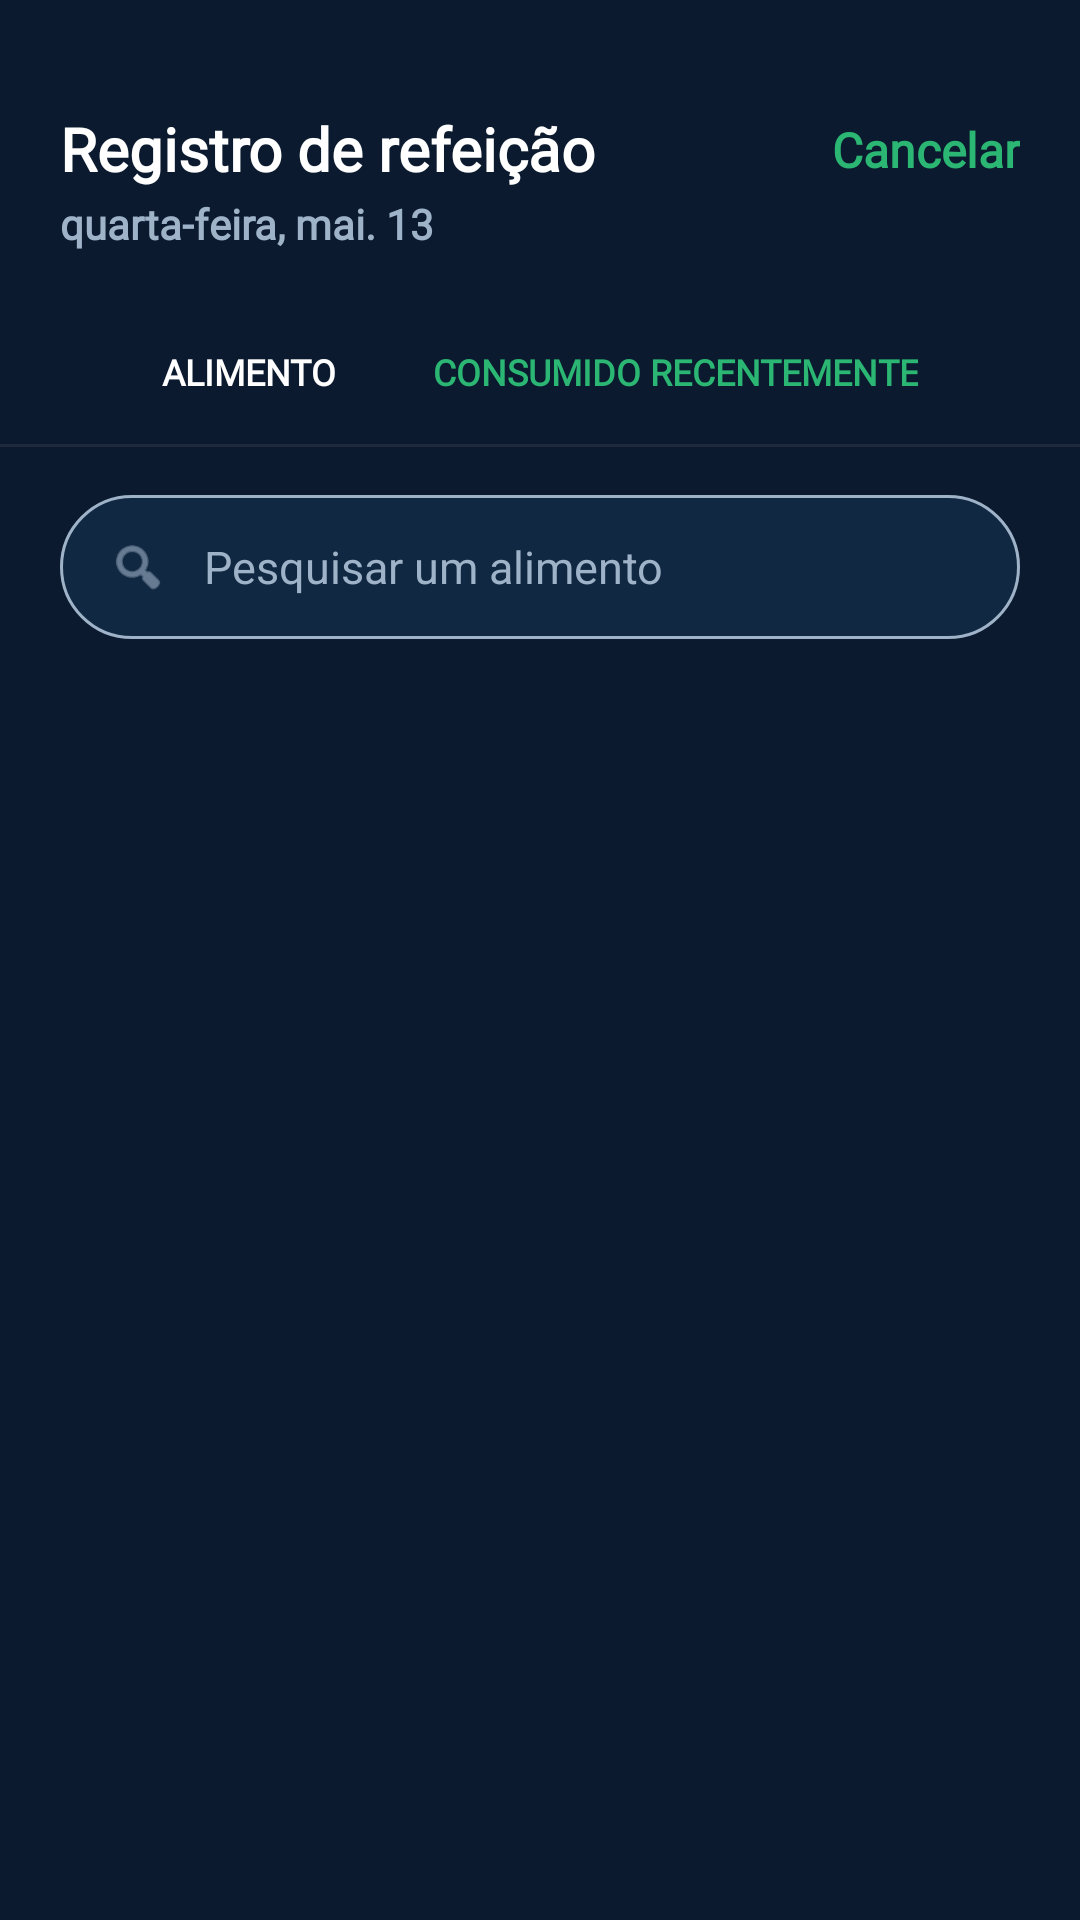

Icons on this 1080px×1920px Android screen, each with its box as (x1, y1, x2, y2):
Ícone de busca: (116, 545, 160, 589)
